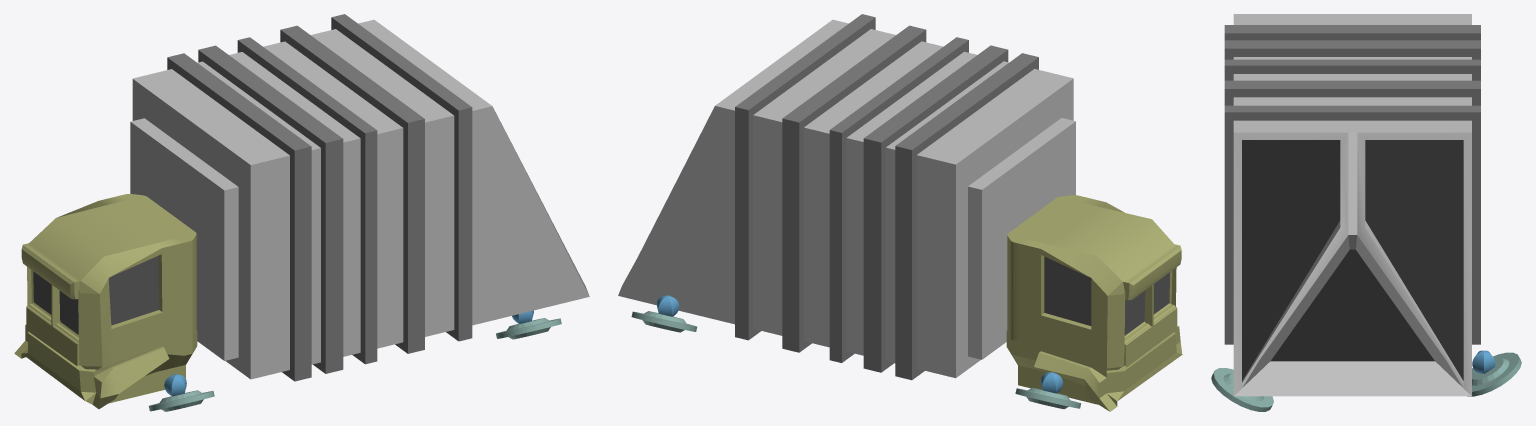
The model's file is Futuristic Garbage Truck.fbx.
The picture shows the model from 3 angles, left to right: view 1: azimuth 30°, elevation 25°; view 2: azimuth 150°, elevation 25°; view 3: azimuth 270°, elevation 25°; orthographic projection.
Visible parts, largest first — view 1: polySurface3791; view 2: polySurface3791; view 3: polySurface3791.
Part boxes in pixels (<box>): polySurface3791: <box>14,14,589,411</box>; polySurface3791: <box>618,14,1182,411</box>; polySurface3791: <box>1211,14,1521,411</box>.
Size of the model in its own units: 152 by 78.34 by 84.26.
